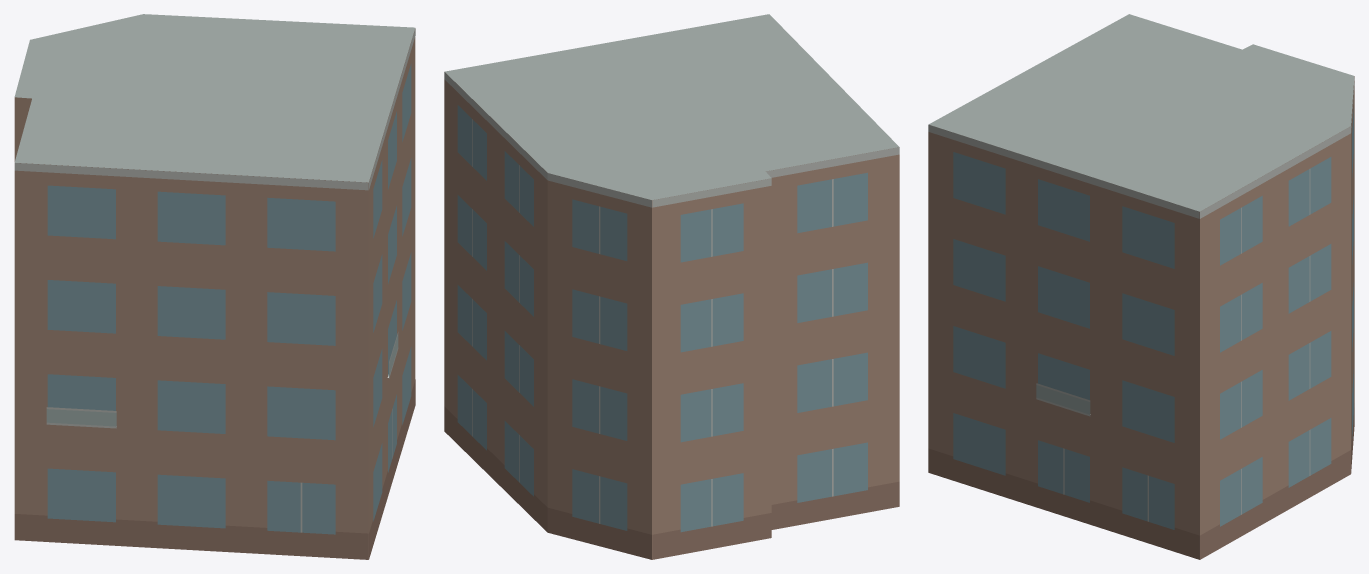
Rendered from survey-upis-32915431.glb.
3 views of the same model, side by side, from view 1: azimuth 30°, elevation 25°; view 2: azimuth 150°, elevation 25°; view 3: azimuth 270°, elevation 25° (orthographic). The views are drawn at different scales.
Visible parts, largest first — view 1: survey-upis-32915431.tmp; view 2: survey-upis-32915431.tmp; view 3: survey-upis-32915431.tmp.
Boxes of the visible parts, x1,y1,x2,y2 form: survey-upis-32915431.tmp: (14, 14, 415, 559); survey-upis-32915431.tmp: (444, 14, 899, 559); survey-upis-32915431.tmp: (928, 14, 1354, 559).
Bounding box in the file's own units: 14.26 × 11.7 × 12.99.
